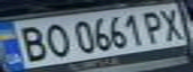0: (69, 17, 97, 54)
1: (121, 11, 148, 46)
6: (90, 15, 115, 52), (106, 12, 130, 50)
B: (9, 22, 51, 63)
O: (39, 21, 72, 59)
P: (139, 8, 172, 44)
X: (154, 6, 190, 42)
